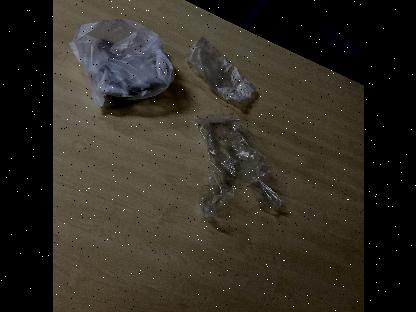Others: (70, 2, 176, 122), (192, 106, 282, 230), (188, 34, 248, 108)
